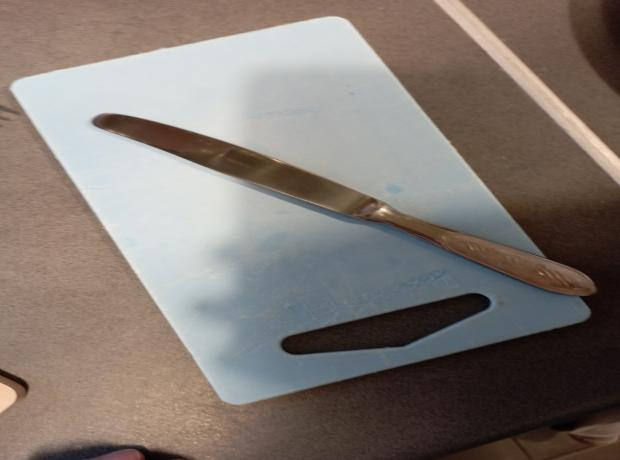metal: (93, 112, 598, 298)
